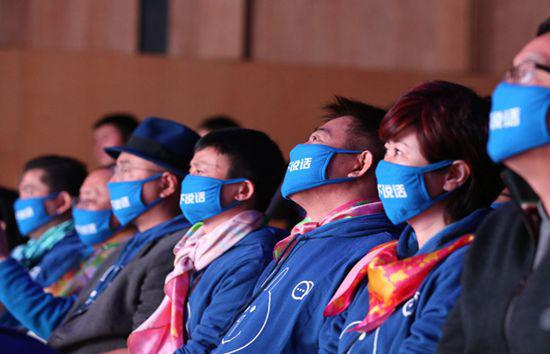OK: (490, 49, 550, 172), (378, 139, 460, 221), (282, 124, 359, 201), (181, 149, 246, 227), (14, 174, 64, 236), (74, 182, 120, 245)
WRONG: (110, 159, 165, 226)
